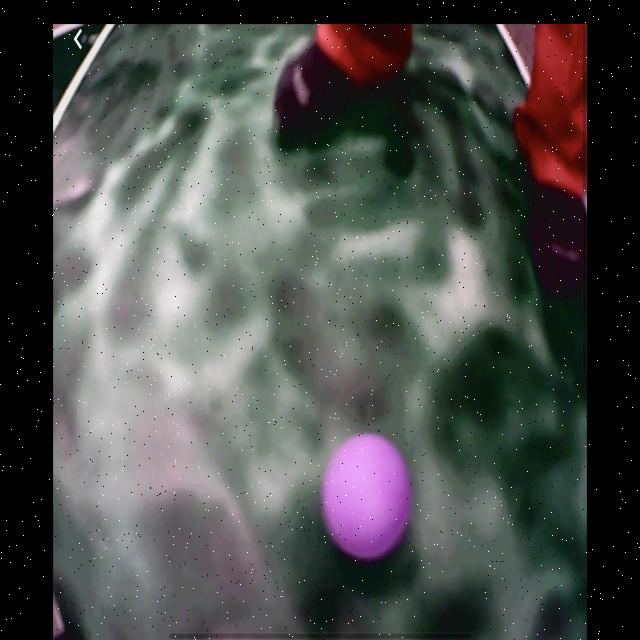ball: (324, 436, 411, 561)
